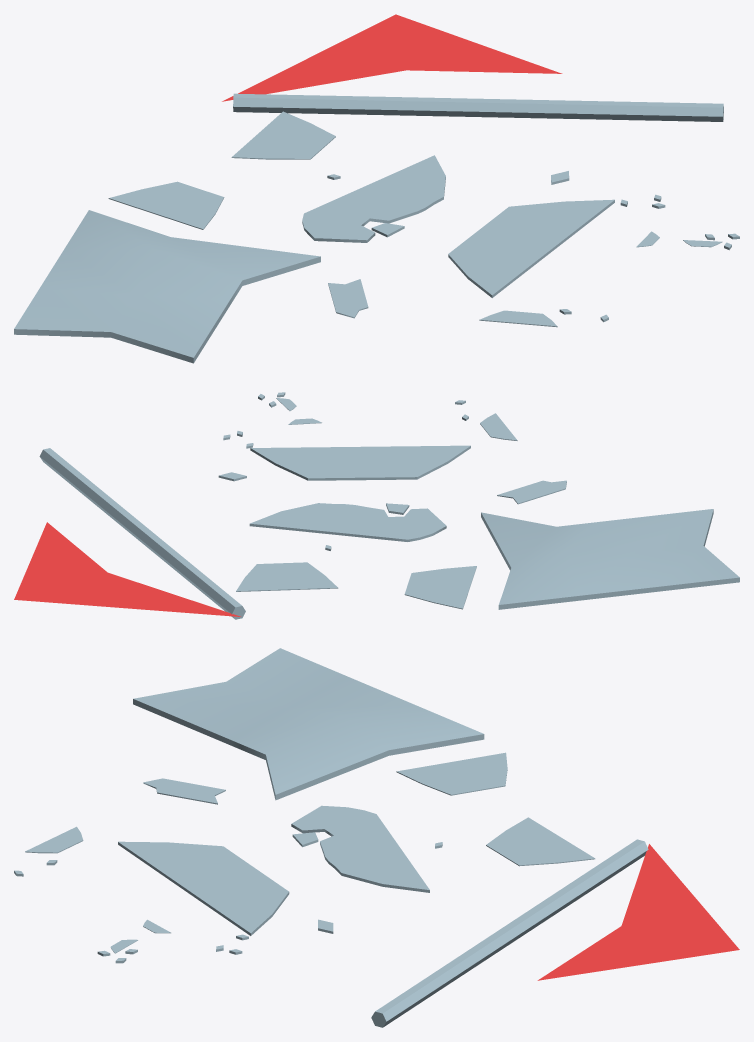
Rendered from shipFragments.obj.
3 views of the same model, one above another, from view 1: azimuth 30°, elevation 25°; view 2: azimuth 150°, elevation 25°; view 3: azimuth 270°, elevation 25° (orthographic). The views are drawn at different scales.
Parts seen in each view (by area): view 1: fragmentsOfShip; view 2: fragmentsOfShip; view 3: fragmentsOfShip.
Part boxes in pixels (x1,y1,x2,y2): fragmentsOfShip: (14,14,739,363); fragmentsOfShip: (14,392,739,619); fragmentsOfShip: (14,648,739,1027).
Bounding box in the file's own units: 77.88 × 2.73 × 64.92.
